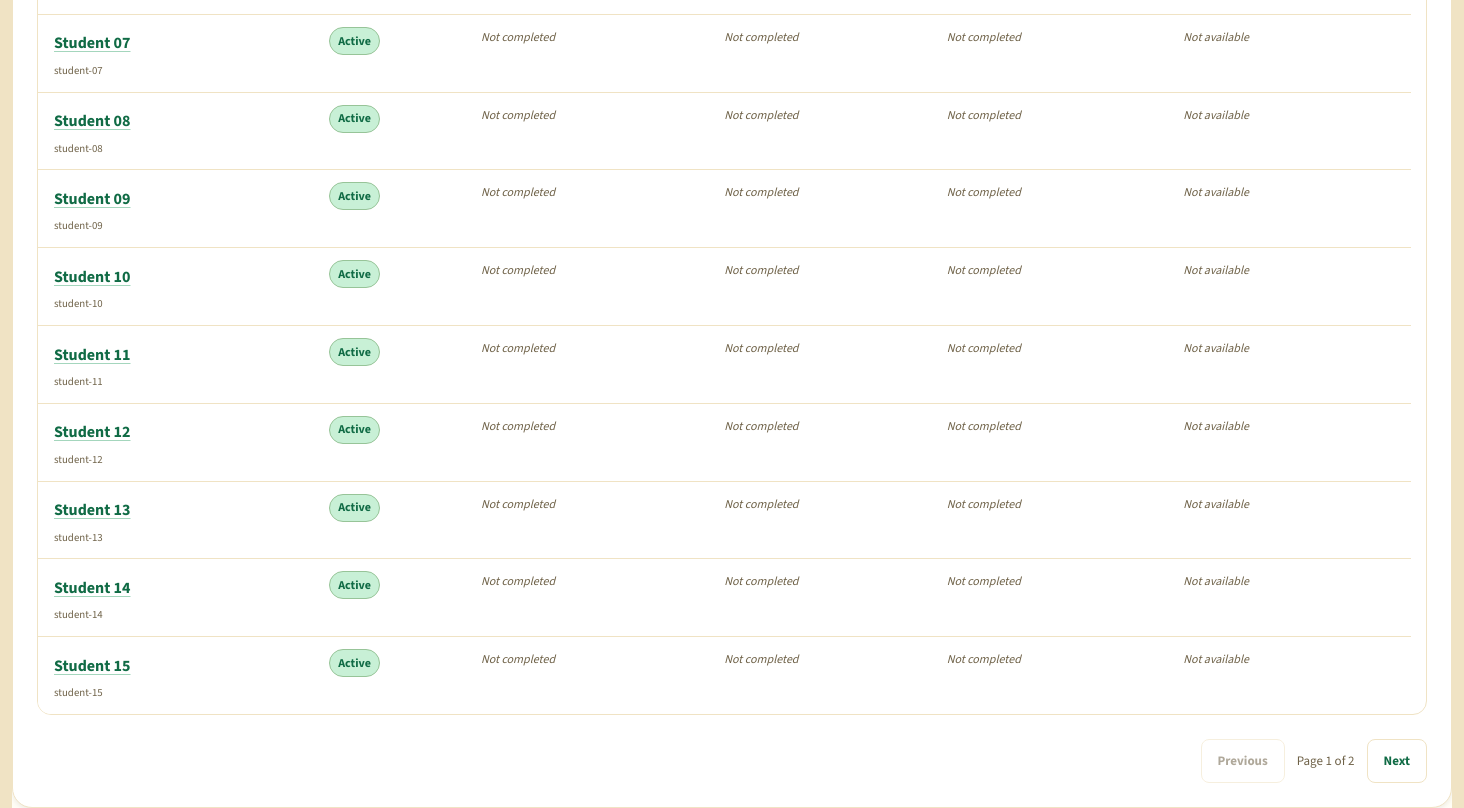
Test: RoundScoresPanel › paginates the chart and table together at 15 students
(page scrolled)
Expected: the element "Student 16" is not shown
Click the button "Next" at [1397, 761], box [1366,739,1427,783]
(page scrolled)
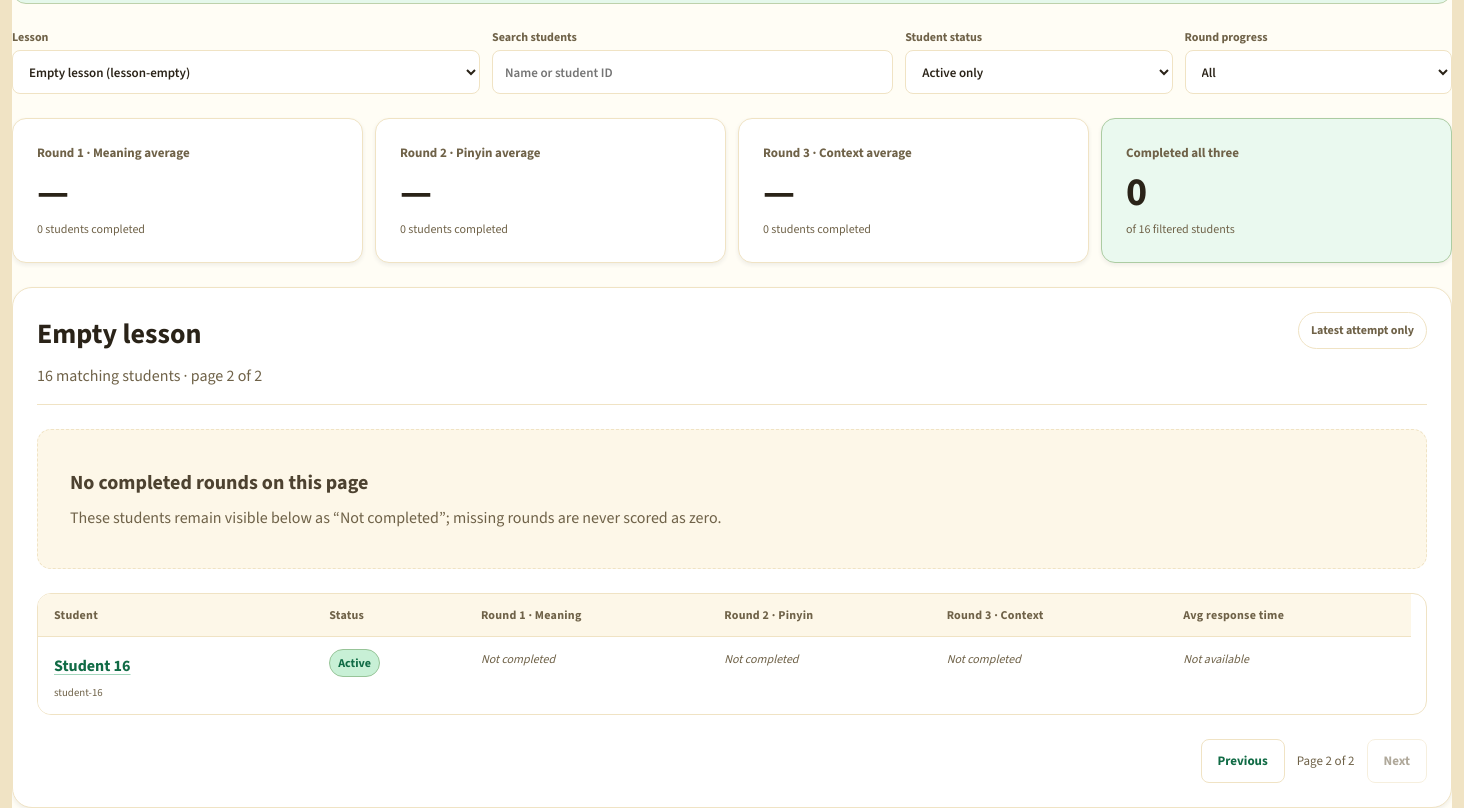
Expected: the column heading "Student 16 student-16" is shown, [38,637,313,714]
